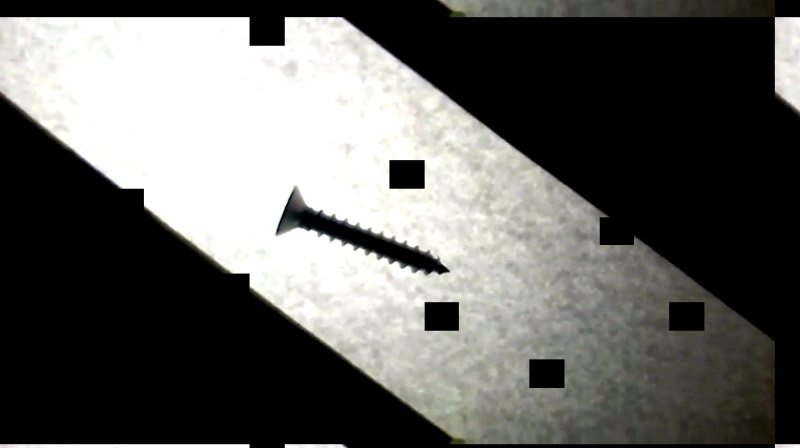S001: (273, 182, 456, 277)
